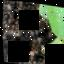Prickly Sida: (9, 1, 64, 61)
